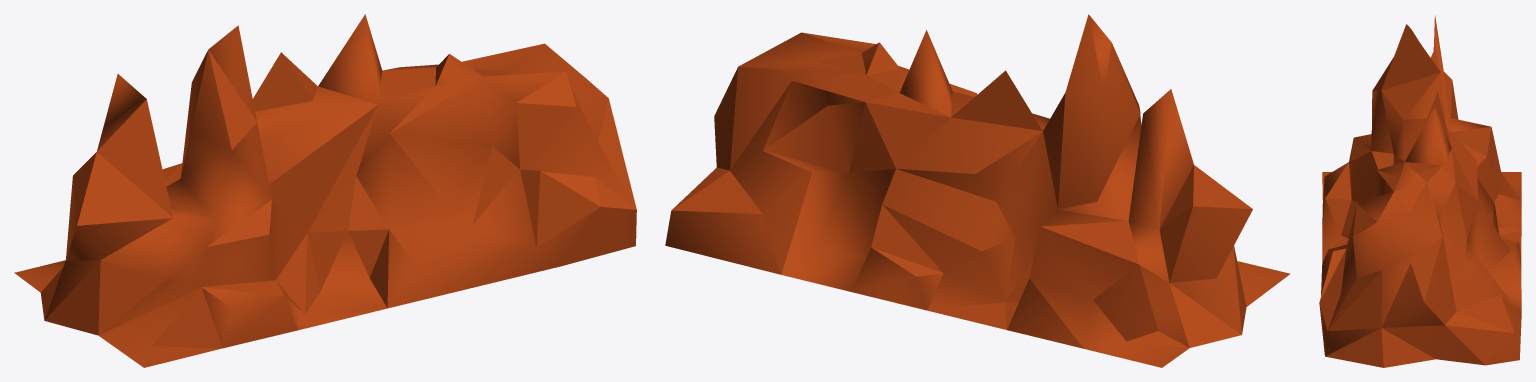
The model's file is Mountain_desert_008.glb.
3 views of the same model, side by side, from view 1: azimuth 30°, elevation 25°; view 2: azimuth 150°, elevation 25°; view 3: azimuth 270°, elevation 25° (orthographic). The views are drawn at different scales.
Parts seen in each view (by area): view 1: Mountain_desert_008; view 2: Mountain_desert_008; view 3: Mountain_desert_008.
Boxes of the visible parts, x1,y1,x2,y2 form: Mountain_desert_008: (14, 14, 636, 367); Mountain_desert_008: (665, 14, 1290, 367); Mountain_desert_008: (1319, 15, 1521, 367).
Bounding box in the file's own units: 55.96 × 26.1 × 23.34.
1 material, 1 textured.
